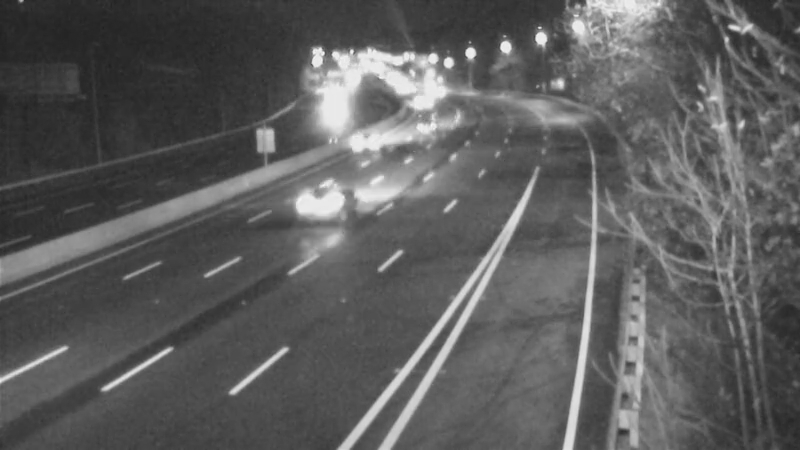vehicle: (272, 165, 352, 245), (399, 75, 449, 125), (402, 104, 452, 154), (342, 117, 392, 167), (307, 74, 357, 124)
